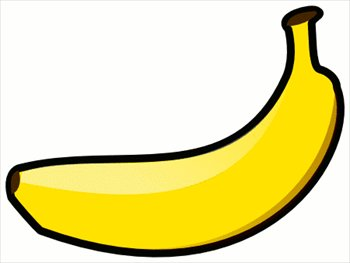banana: (3, 61, 342, 263)
